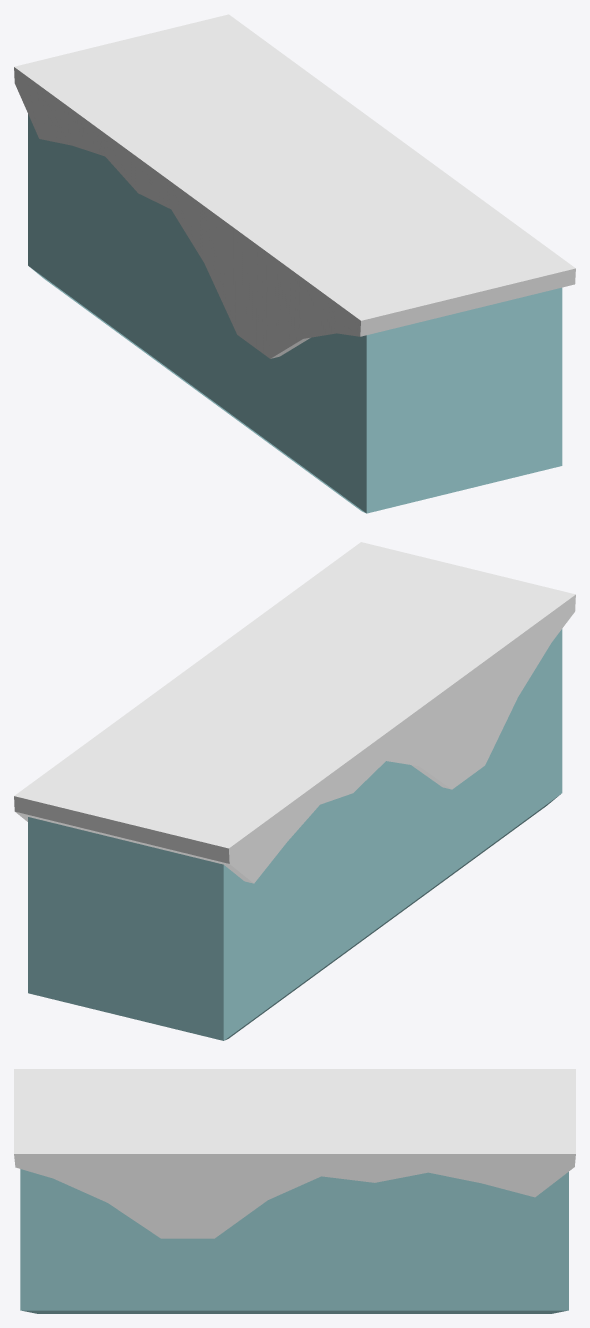
The model's file is LongCube.fbx.
3 renders of one model, top to bottom at view 1: azimuth 30°, elevation 25°; view 2: azimuth 150°, elevation 25°; view 3: azimuth 270°, elevation 25°, orthographic. The views are drawn at different scales.
Parts seen in each view (by area): view 1: Cube; view 2: Cube; view 3: Cube.
Boxes of the visible parts, x1,y1,x2,y2 form: Cube: (14,14,575,513); Cube: (14,542,575,1040); Cube: (14,1069,575,1313).
Bounding box in the file's own units: 220 × 200 × 615.
